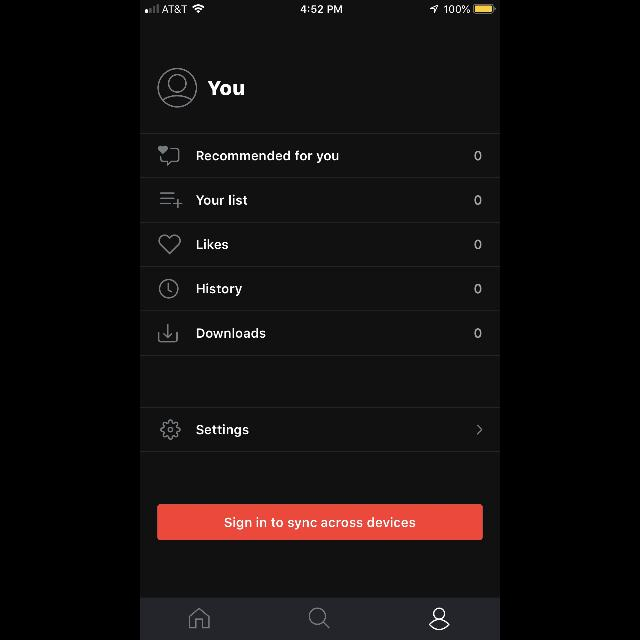icon: (158, 68, 198, 108), (158, 235, 182, 255), (428, 608, 449, 630), (188, 608, 210, 628), (160, 420, 182, 440), (158, 146, 180, 166), (308, 608, 329, 628), (159, 279, 179, 299), (158, 323, 178, 342), (160, 192, 182, 208), (476, 425, 482, 435)
text: (195, 150, 338, 162), (196, 326, 266, 338), (196, 423, 248, 437), (208, 80, 244, 96), (196, 193, 248, 204), (198, 284, 242, 296), (196, 238, 228, 250), (474, 193, 482, 204), (474, 328, 482, 338), (474, 284, 482, 294), (474, 240, 482, 250), (474, 151, 482, 161)
textbutton: (158, 504, 482, 540)
uppertaskbar: (140, 0, 500, 14)
